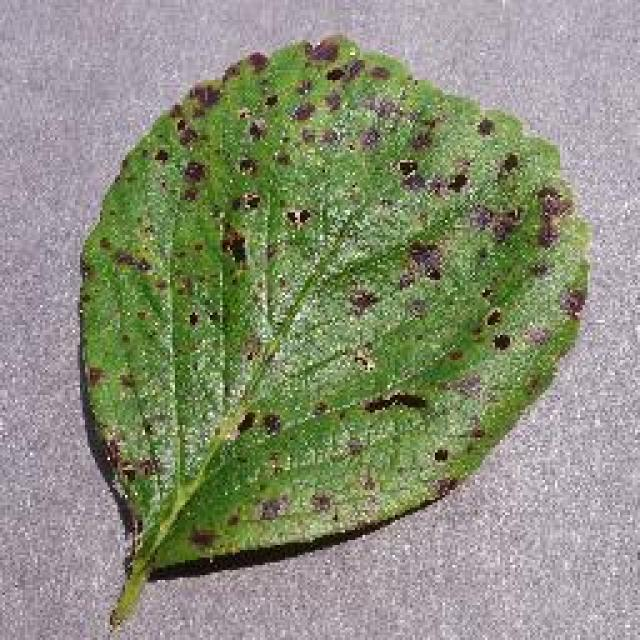Strawberry___Leaf_scorch: (89, 28, 564, 541)
